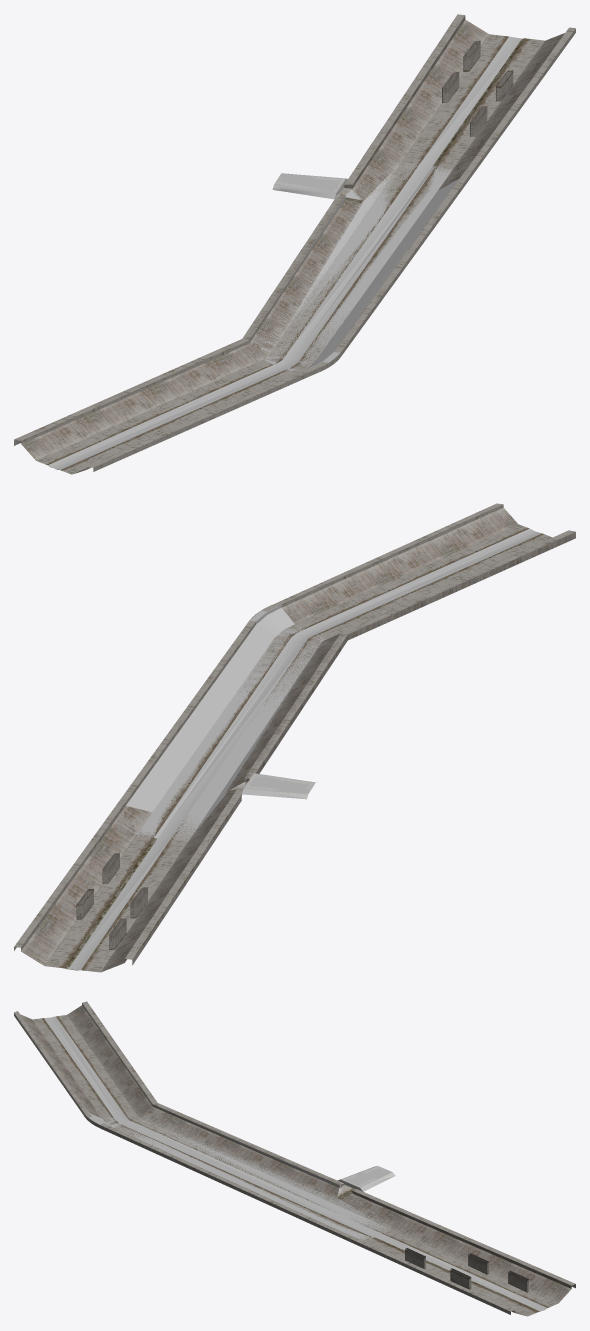
The model's file is canal_batchingplant.dae.
3 renders of one model, top to bottom at view 1: azimuth 30°, elevation 25°; view 2: azimuth 210°, elevation 25°; view 3: azimuth 270°, elevation 25°, orthographic. The views are drawn at different scales.
Parts seen in each view (by area): view 1: canal_batchingplant_a3000, canal_batchingplant_a900, Colmesh_1; view 2: canal_batchingplant_a3000, canal_batchingplant_a900, Colmesh_1; view 3: canal_batchingplant_a3000, canal_batchingplant_a900, Colmesh_1.
Boxes of the visible parts, left/top/right/bottom form: canal_batchingplant_a3000: left=14, top=14, right=575, bottom=474; canal_batchingplant_a900: left=48, top=36, right=521, bottom=469; Colmesh_1: left=252, top=166, right=398, bottom=354; canal_batchingplant_a3000: left=14, top=503, right=575, bottom=972; canal_batchingplant_a900: left=68, top=528, right=541, bottom=970; Colmesh_1: left=196, top=641, right=333, bottom=830; canal_batchingplant_a3000: left=14, top=1001, right=575, bottom=1316; canal_batchingplant_a900: left=44, top=1016, right=547, bottom=1311; Colmesh_1: left=142, top=1105, right=386, bottom=1226.
Size of the model in its own units: 395 by 304 by 9.19.
